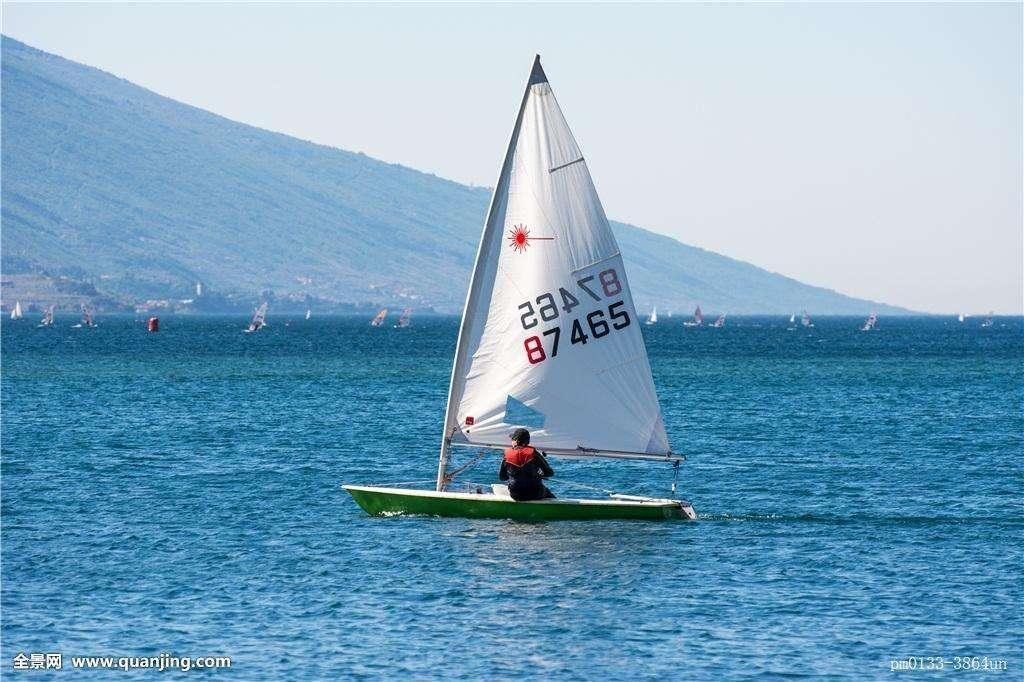fanchuan: (339, 54, 701, 523)
